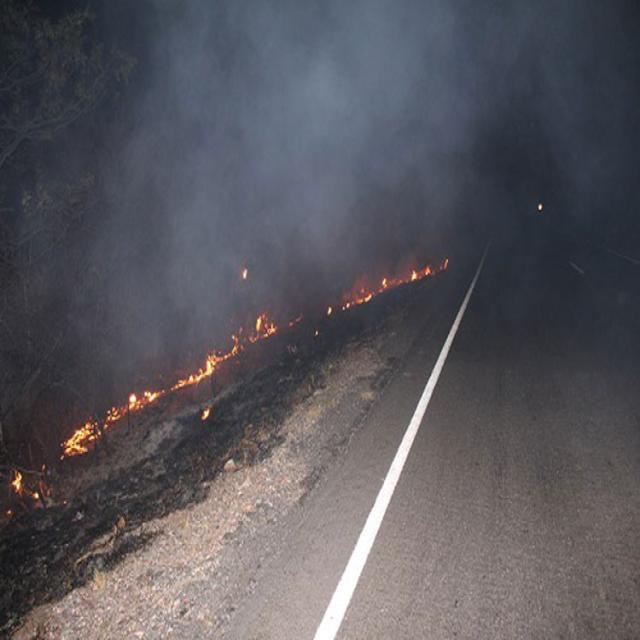Fire: (55, 313, 279, 462), (326, 258, 448, 310), (0, 460, 40, 510)
Smoke: (144, 11, 629, 248)
